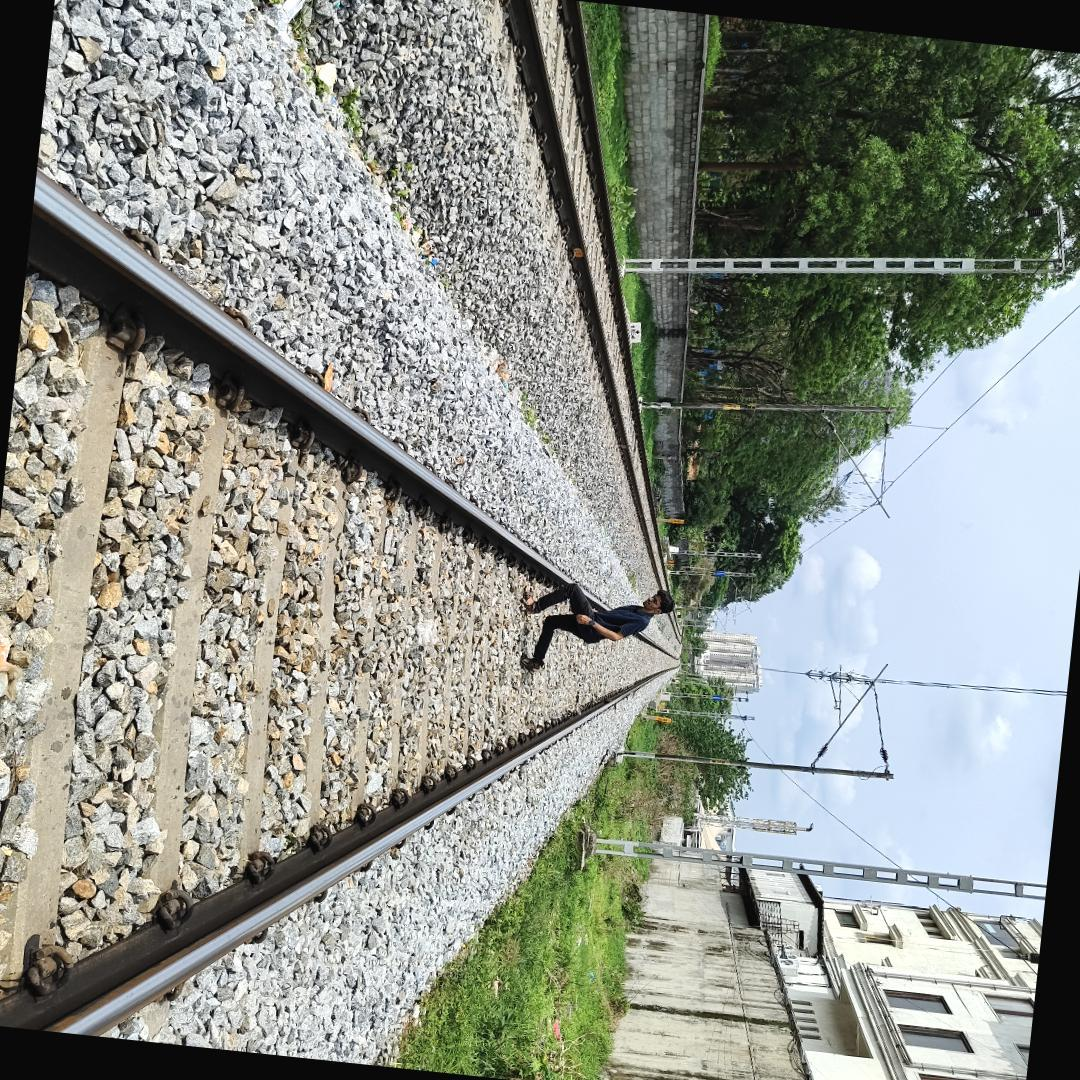standing: (518, 579, 684, 696)
track: (0, 147, 682, 1037)
